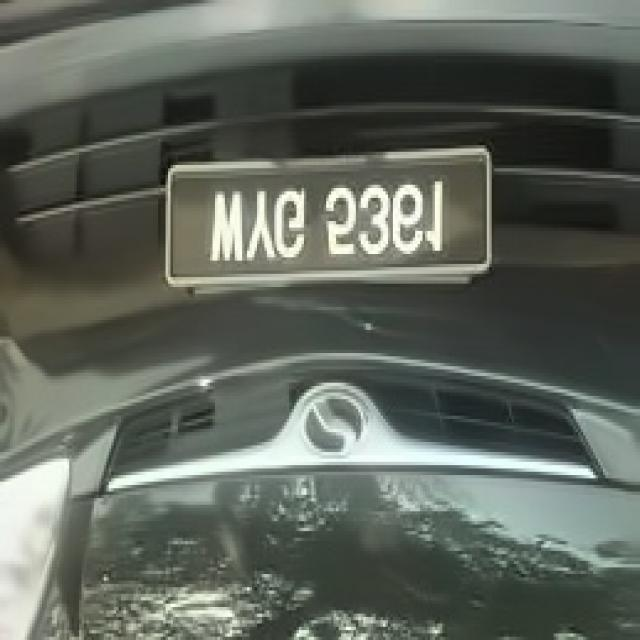car-plate: (165, 144, 491, 286), (206, 278, 208, 280)
